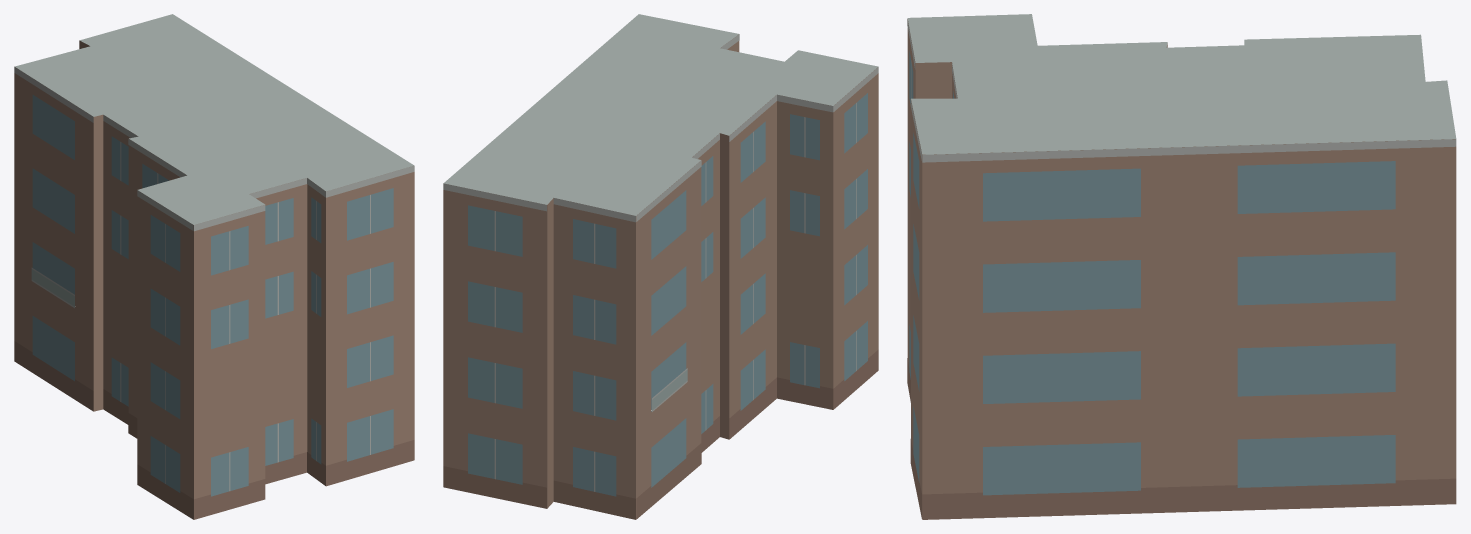
File: survey-upis-32516239.glb
3 renders of one model, left to right at view 1: azimuth 30°, elevation 25°; view 2: azimuth 150°, elevation 25°; view 3: azimuth 270°, elevation 25°, orthographic. The views are drawn at different scales.
Parts seen in each view (by area): view 1: survey-upis-32516239.tmp; view 2: survey-upis-32516239.tmp; view 3: survey-upis-32516239.tmp.
Boxes of the visible parts, bbox=[...] form: survey-upis-32516239.tmp: bbox=[14, 14, 414, 519]; survey-upis-32516239.tmp: bbox=[443, 14, 878, 519]; survey-upis-32516239.tmp: bbox=[907, 14, 1456, 519].
Bounding box in the file's own units: 9.48 × 11.45 × 15.61.
